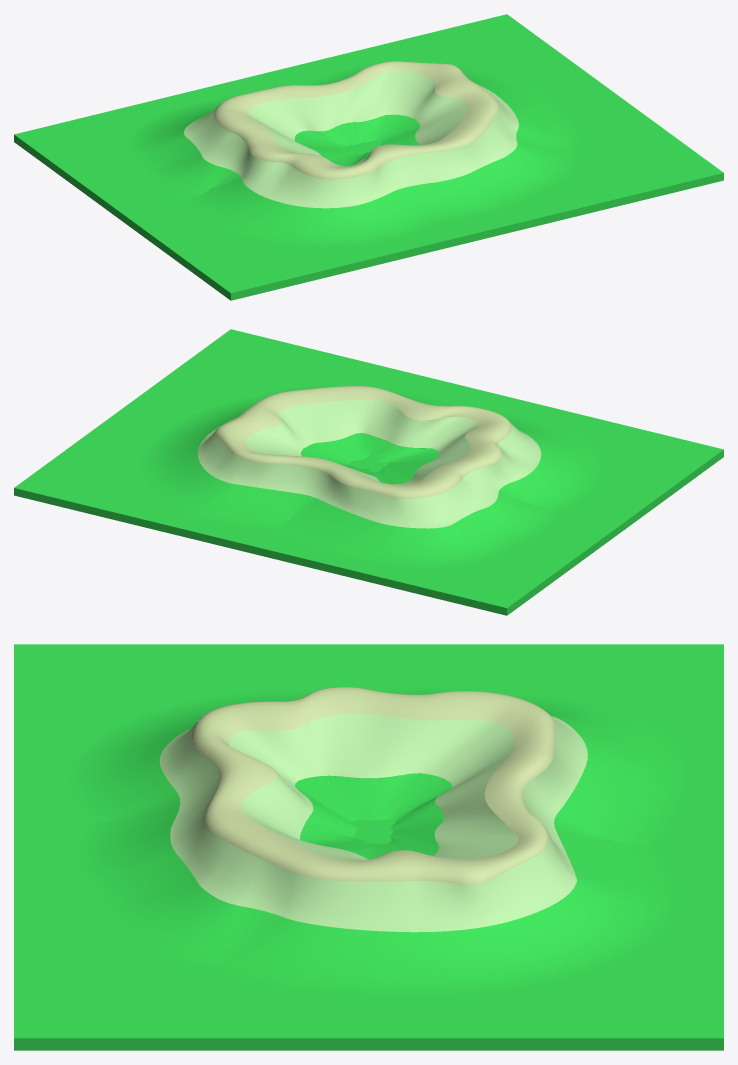
Rendered from basin.glb.
The picture shows the model from 3 angles, top to bottom: view 1: azimuth 30°, elevation 25°; view 2: azimuth 150°, elevation 25°; view 3: azimuth 270°, elevation 25°; orthographic projection. The views are drawn at different scales.
Parts seen in each view (by area): view 1: obj3, obj1, obj2; view 2: obj3, obj1, obj2; view 3: obj3, obj1, obj2.
Boxes of the visible parts, x1,y1,x2,y2 form: obj3: [14, 14, 723, 300]; obj1: [184, 70, 518, 208]; obj2: [214, 61, 499, 179]; obj3: [14, 329, 723, 615]; obj1: [197, 400, 541, 528]; obj2: [215, 386, 511, 498]; obj3: [14, 644, 723, 1050]; obj1: [159, 713, 587, 932]; obj2: [192, 687, 555, 884].
Size of the model in its own units: 0.0491 by 0.00445 by 0.0374.
